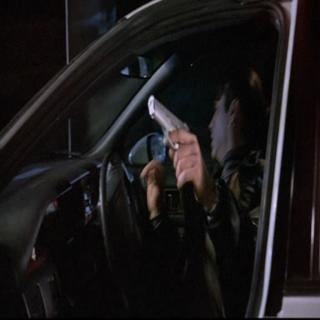gun: (144, 90, 197, 196)
